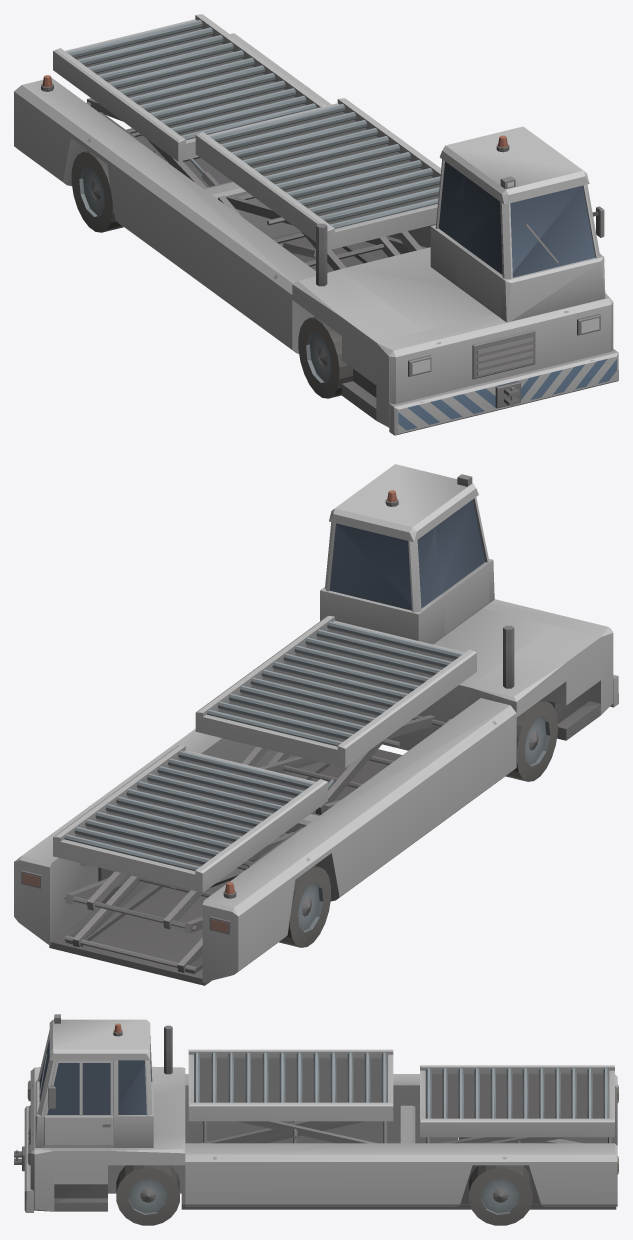
Rendered from uldloader.glb.
The picture shows the model from 3 angles, top to bottom: view 1: azimuth 30°, elevation 25°; view 2: azimuth 150°, elevation 25°; view 3: azimuth 270°, elevation 25°; orthographic projection. The views are drawn at different scales.
Visible parts, largest first — view 1: uldloader; view 2: uldloader; view 3: uldloader.
Part boxes in pixels (x1,y1,x2,y2): uldloader: (14,14,618,435); uldloader: (14,464,618,985); uldloader: (14,1014,618,1225).
Size of the model in its own units: 3 by 2.97 by 9.01.
